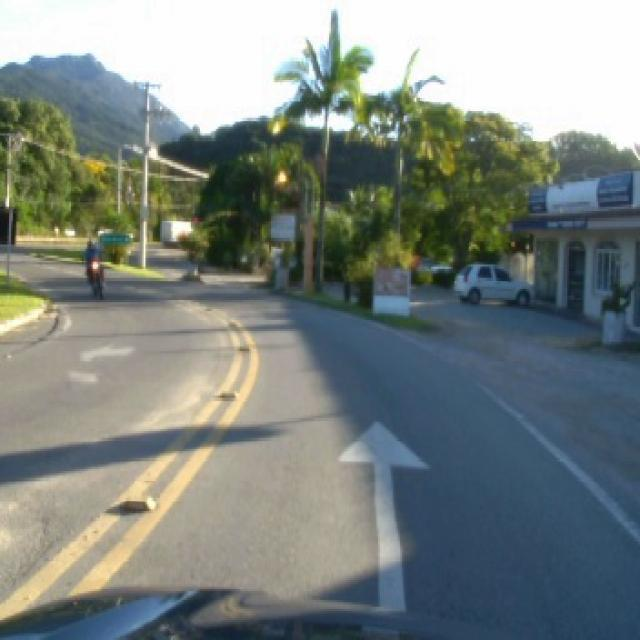Poth-hole: (120, 491, 156, 509), (220, 386, 237, 396), (236, 342, 249, 349), (204, 304, 212, 309), (227, 320, 235, 324)
